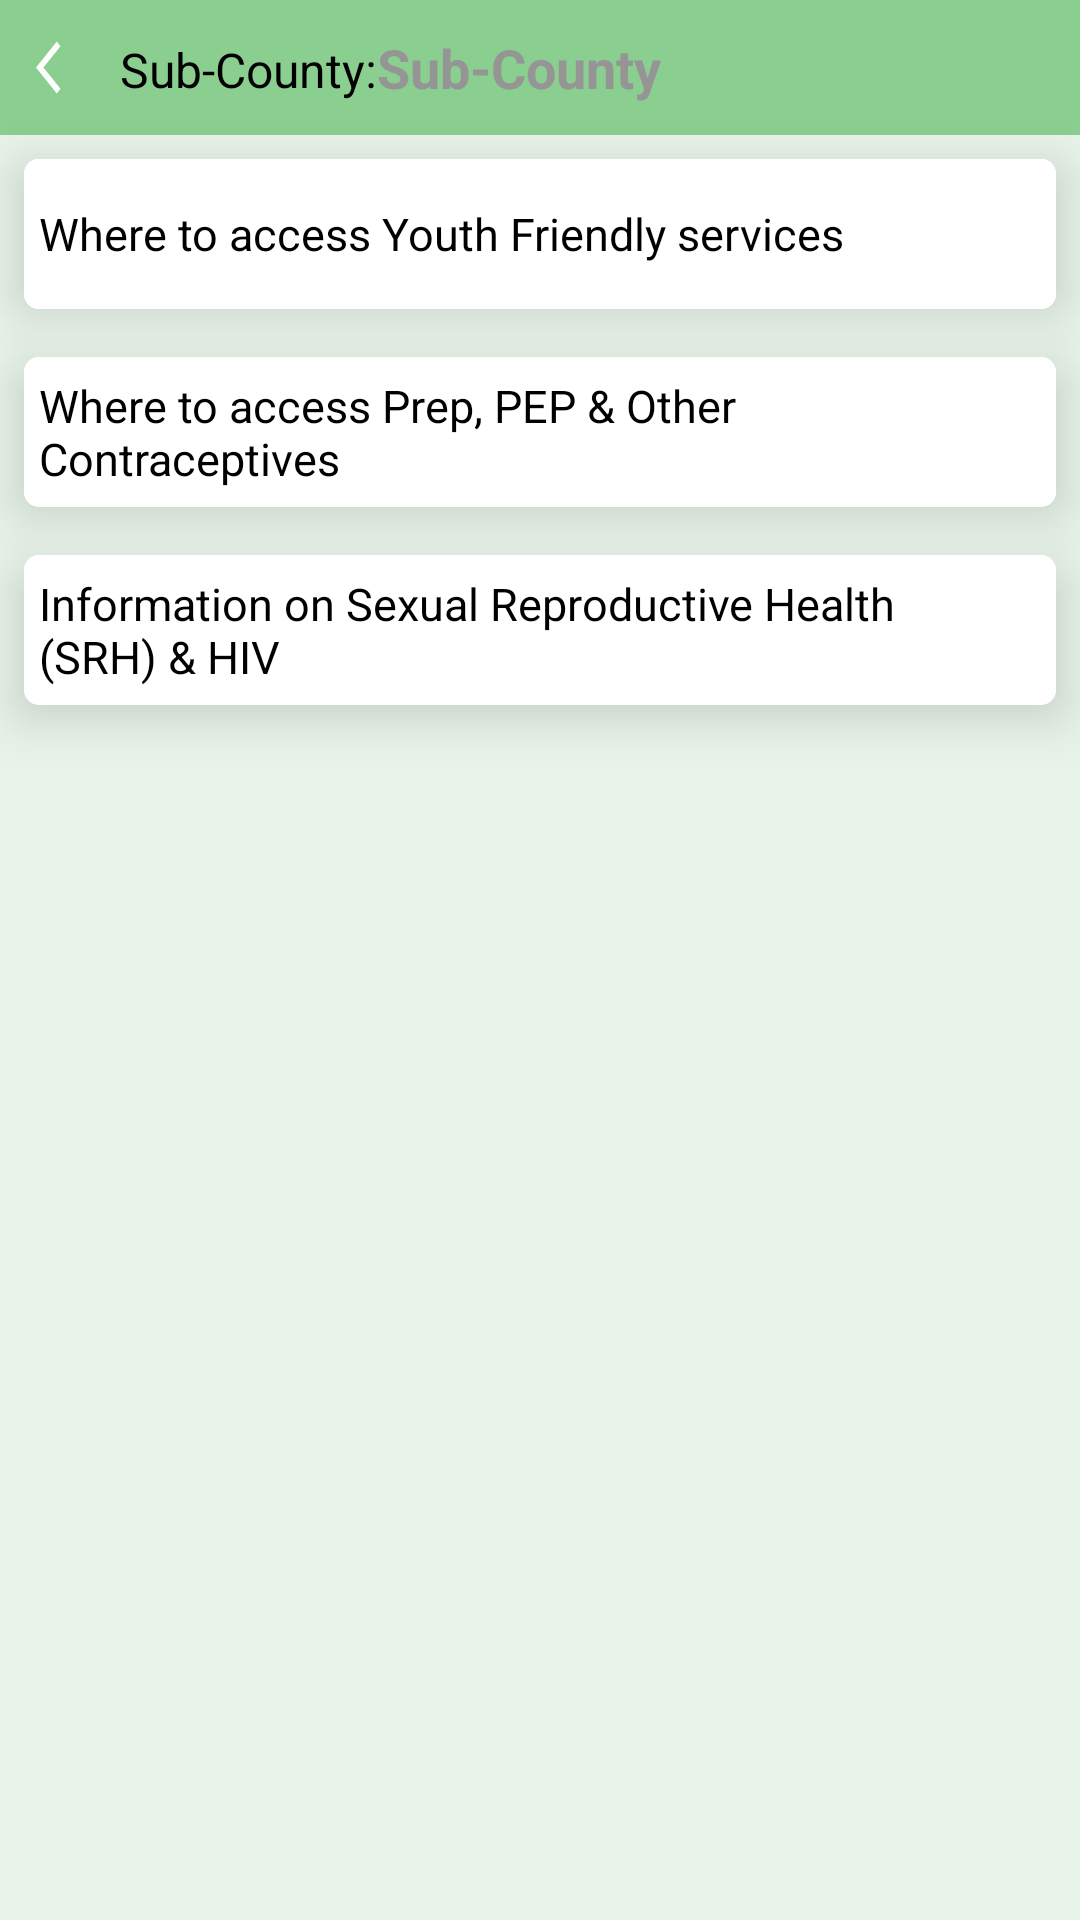

Named icons in this screenshot (1080×1920) and their bounding boxes, (x1, y1, x2, y2):
back: (36, 42, 61, 93)
